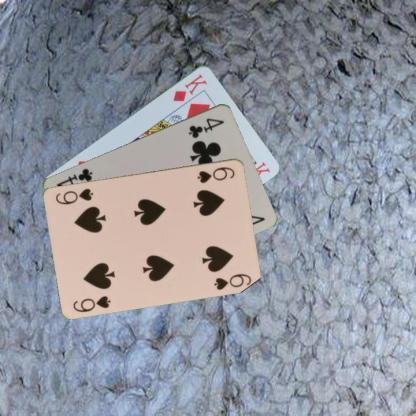4c: (185, 115, 226, 139)
6s: (194, 164, 236, 184), (70, 293, 112, 313)
Kd: (170, 70, 209, 103)
